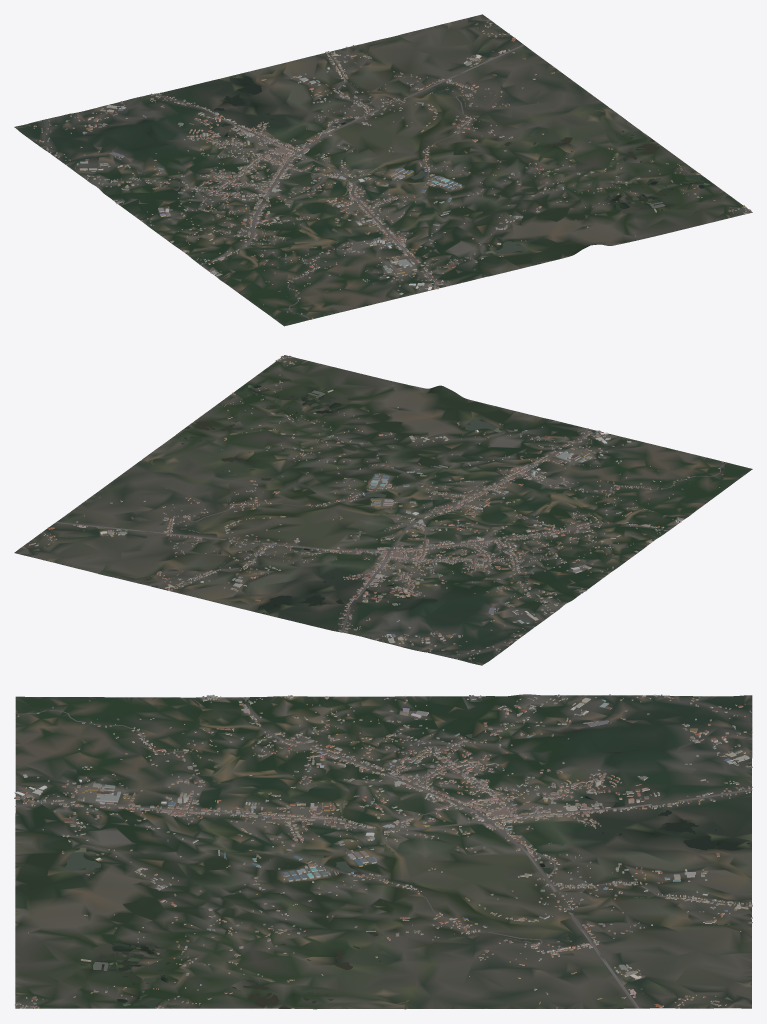
The picture shows the model from 3 angles, top to bottom: view 1: azimuth 30°, elevation 25°; view 2: azimuth 150°, elevation 25°; view 3: azimuth 270°, elevation 25°; orthographic projection. The views are drawn at different scales.
Parts seen in each view (by area): view 1: ground, buildings, water, roads; view 2: ground, buildings, water, roads; view 3: ground, buildings, water, roads.
Boxes of the visible parts, x1,y1,x2,y2 form: ground: [14, 14, 752, 326]; buildings: [29, 21, 751, 318]; water: [140, 41, 709, 296]; roads: [154, 44, 748, 319]; ground: [14, 355, 752, 665]; buildings: [27, 355, 723, 660]; water: [66, 385, 689, 613]; roads: [56, 356, 726, 632]; ground: [15, 694, 752, 1009]; buildings: [14, 694, 752, 1008]; water: [64, 715, 749, 1008]; roads: [15, 697, 752, 1008].
Size of the model in its own units: 5623 by 115 by 5626.
